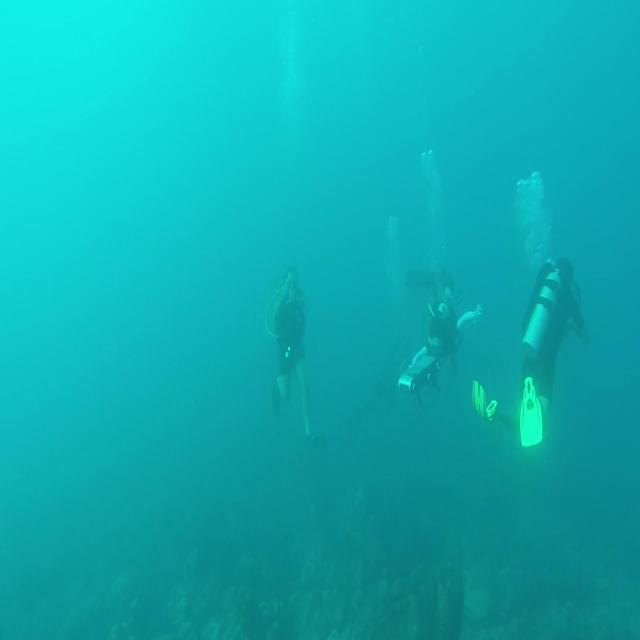human: (472, 254, 589, 448), (397, 266, 482, 410), (264, 264, 325, 447)
